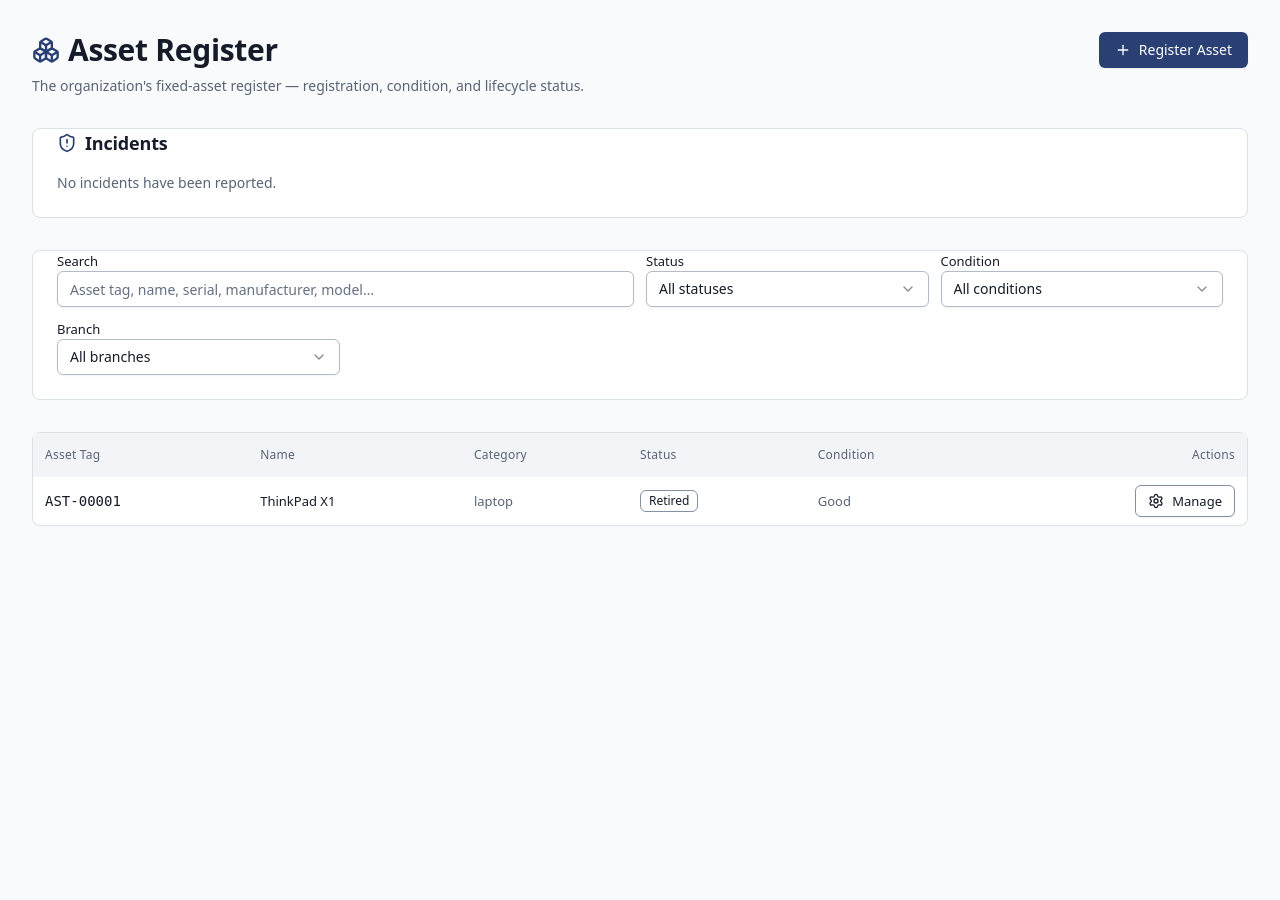
Test case: Asset Register page › lifecycle actions › still offers Update Condition on a retired asset (condition is independent of status)
Click the button with test id "button-manage-asset-1". click: [1185, 501]
box: top-left (1135, 485), bottom-right (1235, 517)
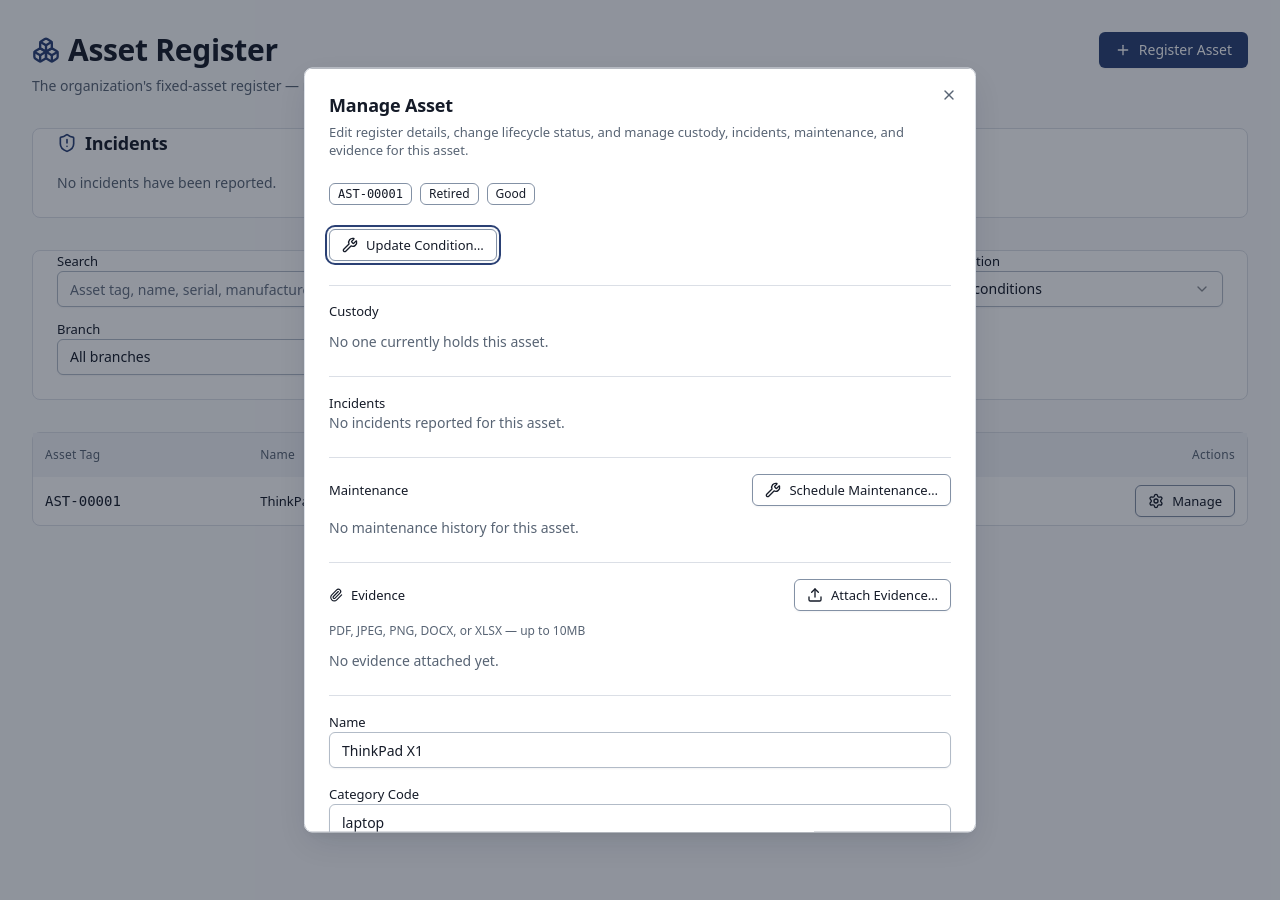
Result: the button with test id "button-open-condition-1" is shown at top-left (329, 228), bottom-right (497, 260)
